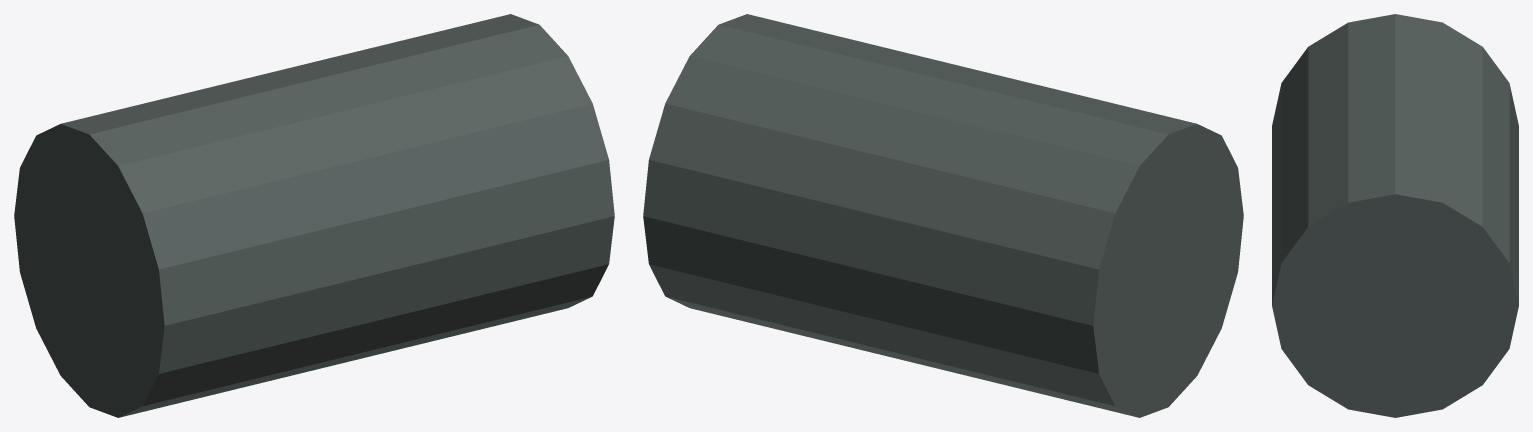
File: ChinMount__Pitch.obj
3 views of the same model, side by side, from view 1: azimuth 30°, elevation 25°; view 2: azimuth 150°, elevation 25°; view 3: azimuth 270°, elevation 25° (orthographic). The views are drawn at different scales.
Parts seen in each view (by area): view 1: Pitch_drum; view 2: Pitch_drum; view 3: Pitch_drum.
Boxes of the visible parts, <box> form: Pitch_drum: <box>14,14,614,417</box>; Pitch_drum: <box>643,14,1243,417</box>; Pitch_drum: <box>1272,14,1518,417</box>.
Bounding box in the file's own units: 0.38 × 0.22 × 0.22.
